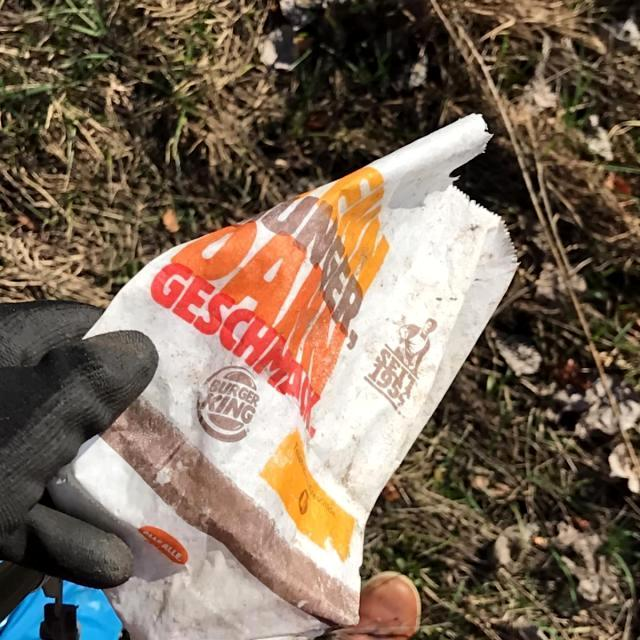Paper: (43, 110, 521, 640)
